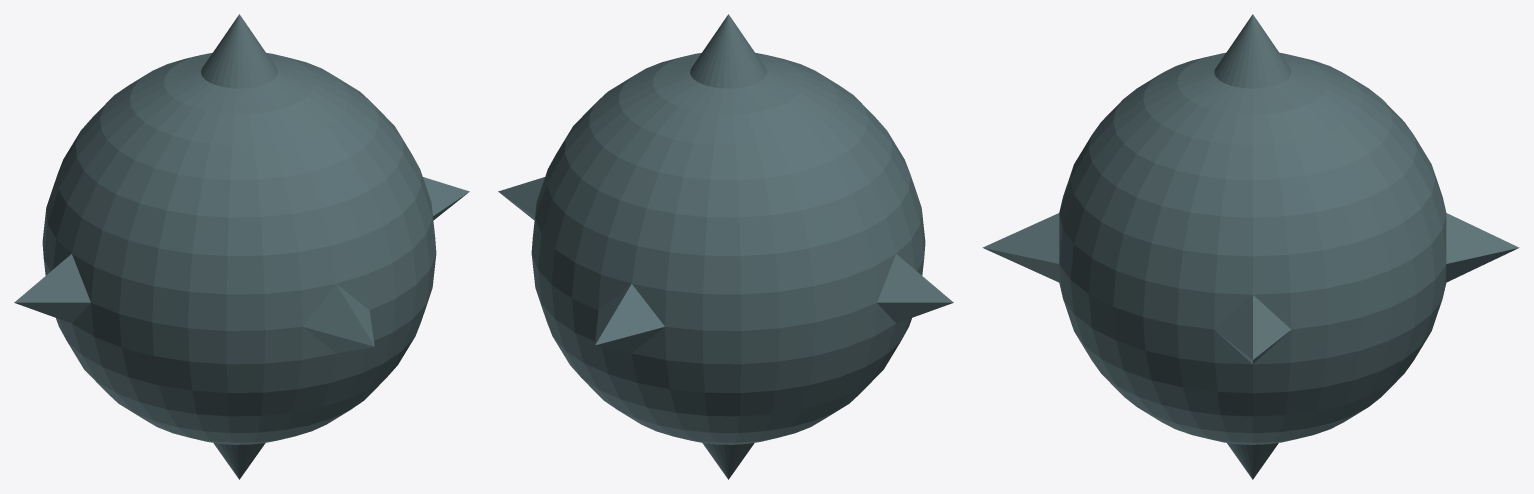
Rendered from PlayerBullet.obj.
The picture shows the model from 3 angles, left to right: view 1: azimuth 30°, elevation 25°; view 2: azimuth 150°, elevation 25°; view 3: azimuth 270°, elevation 25°; orthographic projection.
Parts seen in each view (by area): view 1: 球; view 2: 球; view 3: 球.
Part boxes in pixels (<box>): 球: <box>14,14,469,479</box>; 球: <box>498,14,953,479</box>; 球: <box>982,14,1519,479</box>.
Bounding box in the file's own units: 2.67 × 2.6 × 2.72.
Materials: 1 (1 with a texture image).
